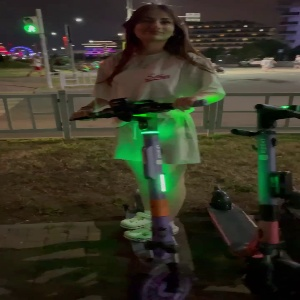human on a scooter: (66, 1, 226, 300)
